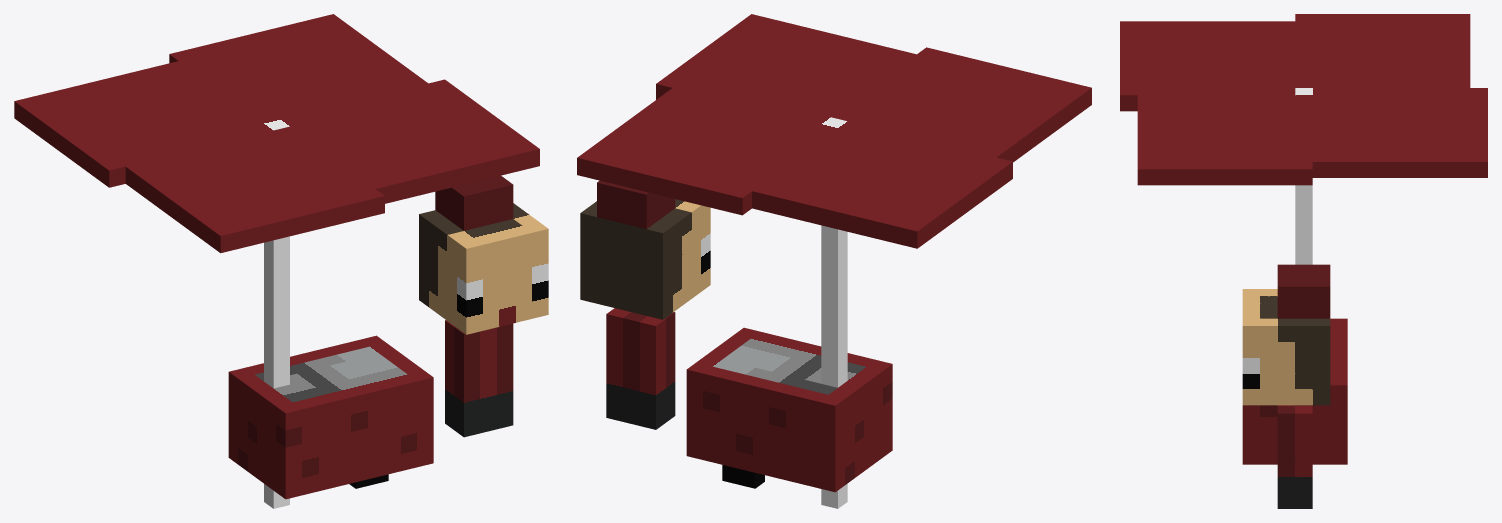
File: Icecream1.dae
The picture shows the model from 3 angles, left to right: view 1: azimuth 30°, elevation 25°; view 2: azimuth 150°, elevation 25°; view 3: azimuth 270°, elevation 25°; orthographic projection. The views are drawn at different scales.
Parts seen in each view (by area): view 1: Icecream1; view 2: Icecream1; view 3: Icecream1.
Boxes of the visible parts, x1,y1,x2,y2 form: Icecream1: (14, 14, 548, 508); Icecream1: (577, 14, 1091, 508); Icecream1: (1120, 14, 1487, 508).
Size of the model in its own units: 25 by 22 by 21.
1 material, 1 textured.
